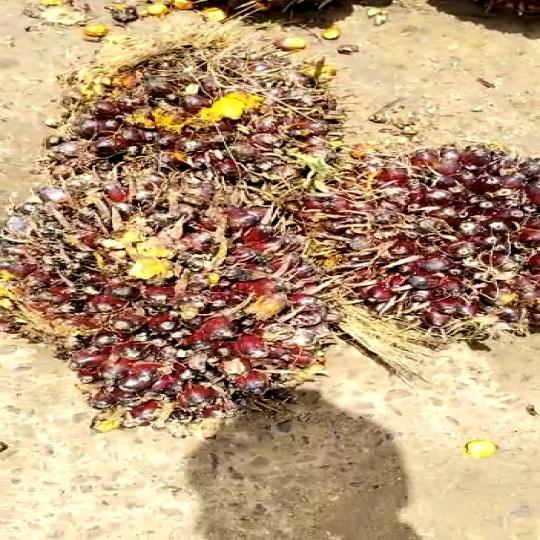kurang masak: (0, 129, 387, 447), (295, 122, 540, 356), (50, 43, 318, 213)
